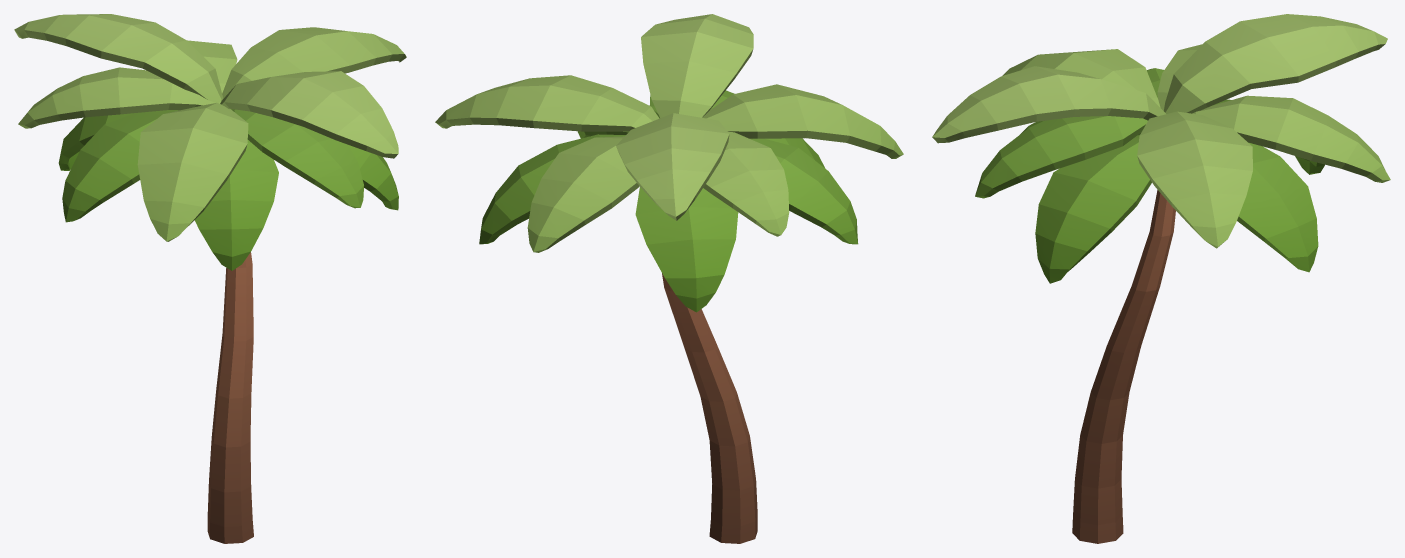
Rendered from palm-tree-bent.glb.
3 renders of one model, left to right at view 1: azimuth 30°, elevation 25°; view 2: azimuth 150°, elevation 25°; view 3: azimuth 270°, elevation 25°, orthographic. The views are drawn at different scales.
Visible parts, largest first — view 1: palm tree bent; view 2: palm tree bent; view 3: palm tree bent.
Part boxes in pixels (box(x1,y1,x2,y2)): palm tree bent: box(14, 14, 406, 543); palm tree bent: box(435, 14, 903, 543); palm tree bent: box(932, 14, 1390, 543).
Bounding box in the file's own units: 6.09 × 7.11 × 6.08.
Materials: 1 (1 with a texture image).
